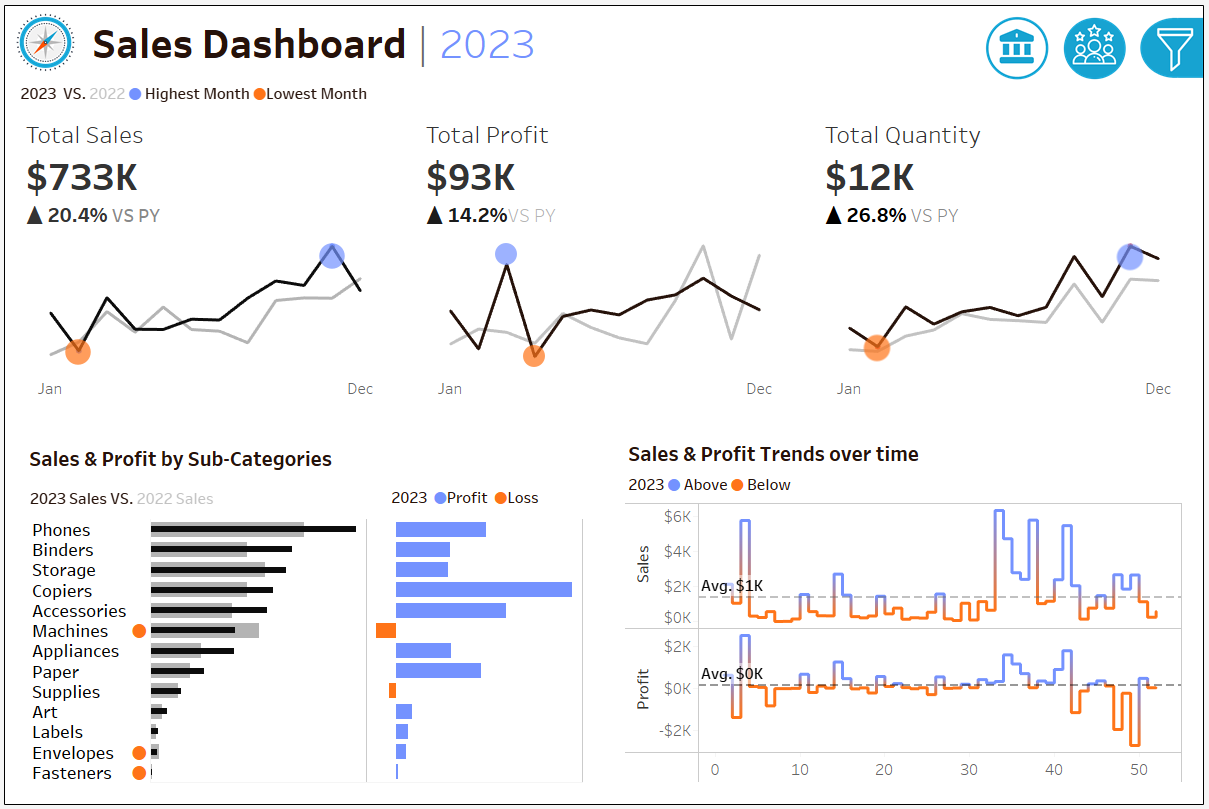

This screenshot's page, from the dashboard's own definition file:
{"tool":"tableau","page":{"name":"Sales Dashboard","canvas":[1200,800],"ordinal":1},"visuals":[{"type":"image","param":"Image/Icon - Logo.png","box":[1,1,80,72]},{"type":"text","box":[81,1,889,72]},{"type":"dashboard-object","box":[975,7,77,72]},{"type":"dashboard-object","box":[1052,7,76,72]},{"type":"dashboard-object","box":[1128,7,76,72]},{"type":"blank","box":[986,10,202,85]},{"type":"worksheet","title":"Legend KPI","mark":"Automatic","box":[1,73,1198,29]},{"type":"text","box":[986,95,202,36]},{"type":"worksheet","title":"KPI Sales","mark":"Automatic","rows":["Calculation_752101204194697221"],"cols":["Order Date"],"box":[1,102,400,311]},{"type":"worksheet","title":"KPI profit","mark":"Automatic","rows":["Calculation_949133688239529989"],"cols":["Order Date"],"box":[401,102,399,311]},{"type":"worksheet","title":"KPI Quantity","mark":"Automatic","rows":["Calculation_980940360949956613"],"cols":["Order Date"],"box":[800,102,399,311]},{"type":"parameter","param":"[Parameters].[Parameter 1]","box":[986,131,202,56]},{"type":"text","box":[986,187,202,36]},{"type":"filter","title":"KPI Sales","param":"[federated.0ijhjs61j635ys147teke0o80fxq].[none:Category:nk]","box":[986,223,202,61]},{"type":"filter","title":"KPI Sales","param":"[federated.0ijhjs61j635ys147teke0o80fxq].[none:Sub-Category:nk]","box":[986,284,202,61]},{"type":"blank","box":[986,345,202,60]},{"type":"text","box":[986,405,202,36]},{"type":"text","box":[18,430,565,45]},{"type":"text","box":[617,430,565,35]},{"type":"filter","title":"KPI Sales","param":"[federated.0ijhjs61j635ys147teke0o80fxq].[none:Region:nk]","box":[986,441,202,61]},{"type":"text","box":[617,465,565,29]},{"type":"worksheet","title":"Legend","mark":"Automatic","box":[18,475,362,35]},{"type":"text","box":[380,475,203,35]},{"type":"worksheet","title":"Weekly Trends","mark":"Automatic","rows":["Calculation_752101204178542592","Calculation_949133688238493698"],"cols":["Order Date"],"box":[617,494,565,288]},{"type":"filter","title":"KPI Sales","param":"[federated.0ijhjs61j635ys147teke0o80fxq].[none:State:nk]","box":[986,502,202,61]},{"type":"worksheet","title":"Sub Category Comparison","mark":"Bar","rows":["Sub-Category","Calculation_980940360960442374"],"cols":["CY Sales (copy)_752101204178726913","Calculation_752101204178542592","Calculation_949133688238493698"],"box":[18,510,565,272]},{"type":"filter","title":"KPI Sales","param":"[federated.0ijhjs61j635ys147teke0o80fxq].[none:City:nk]","box":[986,563,202,61]}]}

Visuals, with their boxes in screenshot pixels (x1, y1, x2, y2), scaled from the page's 1200x800 canvas onto the 1209x809 screenshot:
image: pyautogui.locateOnScreen(1, 1, 82, 74)
text: pyautogui.locateOnScreen(82, 1, 977, 74)
dashboard-object: pyautogui.locateOnScreen(982, 7, 1060, 80)
dashboard-object: pyautogui.locateOnScreen(1060, 7, 1136, 80)
dashboard-object: pyautogui.locateOnScreen(1136, 7, 1208, 80)
blank: pyautogui.locateOnScreen(993, 10, 1197, 96)
"Legend KPI" worksheet: pyautogui.locateOnScreen(1, 74, 1208, 103)
text: pyautogui.locateOnScreen(993, 96, 1197, 132)
"KPI Sales" worksheet: pyautogui.locateOnScreen(1, 103, 404, 418)
"KPI profit" worksheet: pyautogui.locateOnScreen(404, 103, 806, 418)
"KPI Quantity" worksheet: pyautogui.locateOnScreen(806, 103, 1208, 418)
parameter: pyautogui.locateOnScreen(993, 132, 1197, 189)
text: pyautogui.locateOnScreen(993, 189, 1197, 226)
"KPI Sales" filter: pyautogui.locateOnScreen(993, 226, 1197, 287)
"KPI Sales" filter: pyautogui.locateOnScreen(993, 287, 1197, 349)
blank: pyautogui.locateOnScreen(993, 349, 1197, 410)
text: pyautogui.locateOnScreen(993, 410, 1197, 446)
text: pyautogui.locateOnScreen(18, 435, 587, 480)
text: pyautogui.locateOnScreen(622, 435, 1191, 470)
"KPI Sales" filter: pyautogui.locateOnScreen(993, 446, 1197, 508)
text: pyautogui.locateOnScreen(622, 470, 1191, 500)
"Legend" worksheet: pyautogui.locateOnScreen(18, 480, 383, 516)
text: pyautogui.locateOnScreen(383, 480, 587, 516)
"Weekly Trends" worksheet: pyautogui.locateOnScreen(622, 500, 1191, 791)
"KPI Sales" filter: pyautogui.locateOnScreen(993, 508, 1197, 569)
"Sub Category Comparison" worksheet (Bar marks): pyautogui.locateOnScreen(18, 516, 587, 791)
"KPI Sales" filter: pyautogui.locateOnScreen(993, 569, 1197, 631)
